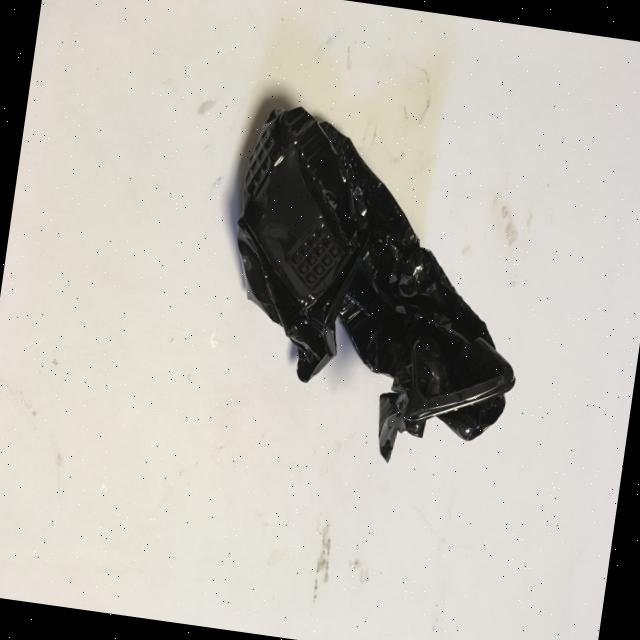plastic: (206, 98, 549, 479)
